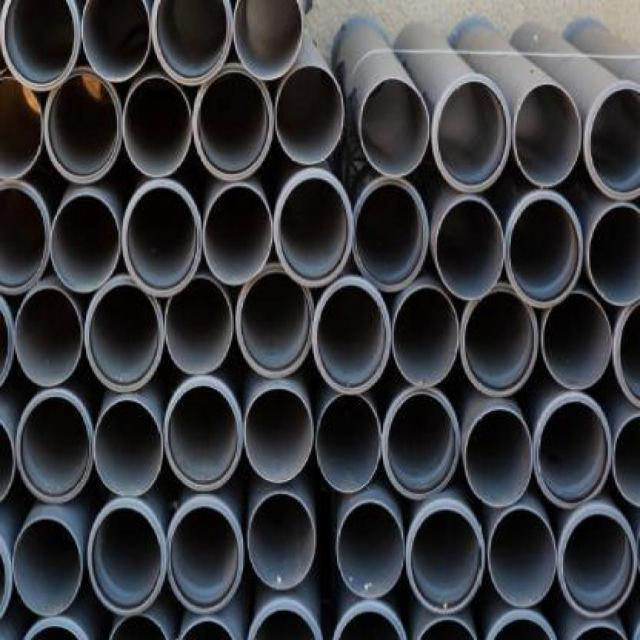pipe: (193, 65, 275, 182), (532, 393, 612, 510), (122, 182, 202, 298), (84, 278, 164, 393), (274, 171, 353, 286), (505, 193, 584, 307), (88, 501, 167, 615), (405, 503, 485, 615), (44, 68, 121, 184), (313, 279, 391, 393), (460, 284, 539, 396), (236, 264, 313, 378), (16, 392, 95, 503), (558, 508, 637, 619), (432, 80, 510, 192), (167, 498, 242, 614), (165, 381, 242, 493), (381, 392, 458, 500), (354, 182, 428, 292), (0, 0, 80, 91), (359, 77, 430, 179), (435, 198, 506, 299), (274, 65, 344, 167), (513, 83, 581, 188), (93, 397, 164, 497), (13, 517, 84, 617), (150, 0, 232, 86), (49, 193, 120, 292), (123, 77, 191, 180), (203, 185, 273, 285), (488, 507, 556, 609), (164, 275, 233, 374), (392, 284, 457, 389), (465, 408, 533, 508), (542, 293, 612, 390), (15, 287, 83, 386), (248, 491, 316, 590), (244, 389, 313, 486), (336, 502, 404, 599), (584, 83, 640, 200), (316, 393, 381, 493), (232, 0, 305, 82), (81, 0, 152, 82), (0, 181, 51, 295), (587, 204, 640, 306), (0, 79, 42, 179), (612, 301, 640, 415), (249, 601, 325, 640), (332, 604, 406, 640), (612, 409, 640, 504), (489, 615, 560, 640), (415, 613, 478, 640), (109, 615, 168, 640), (182, 617, 235, 640), (566, 622, 631, 640), (29, 621, 86, 640)
